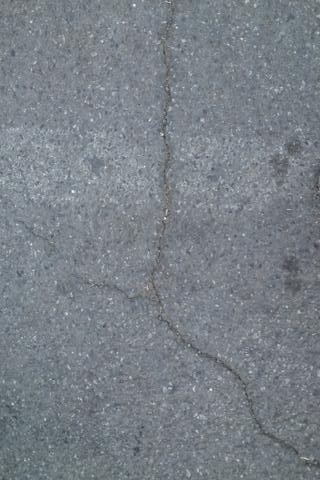A: (146, 3, 317, 470)
